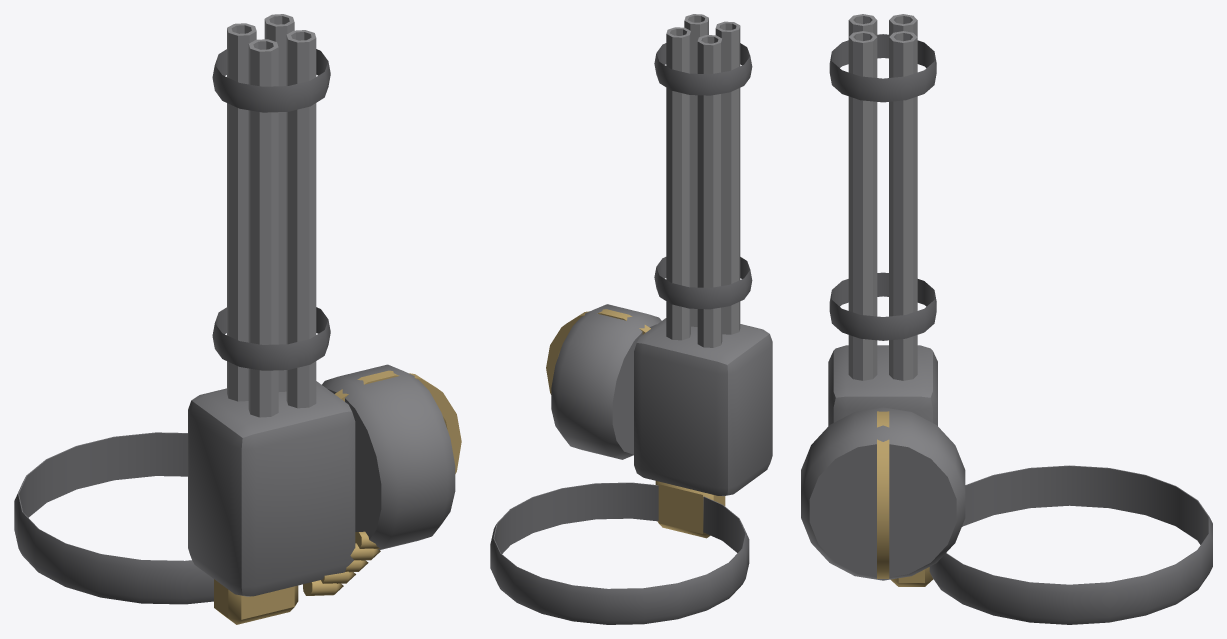
Rendered from Kit_Active_Gun.glb.
The picture shows the model from 3 angles, left to right: view 1: azimuth 30°, elevation 25°; view 2: azimuth 150°, elevation 25°; view 3: azimuth 270°, elevation 25°; orthographic projection. The views are drawn at different scales.
Visible parts, largest first — view 1: Kit_Active_Gun; view 2: Kit_Active_Gun; view 3: Kit_Active_Gun.
Part boxes in pixels (x1,y1,x2,y2): Kit_Active_Gun: (14, 14, 461, 624); Kit_Active_Gun: (490, 14, 772, 624); Kit_Active_Gun: (801, 14, 1212, 624).
Size of the model in its own units: 0.1568 by 0.275 by 0.1878.
